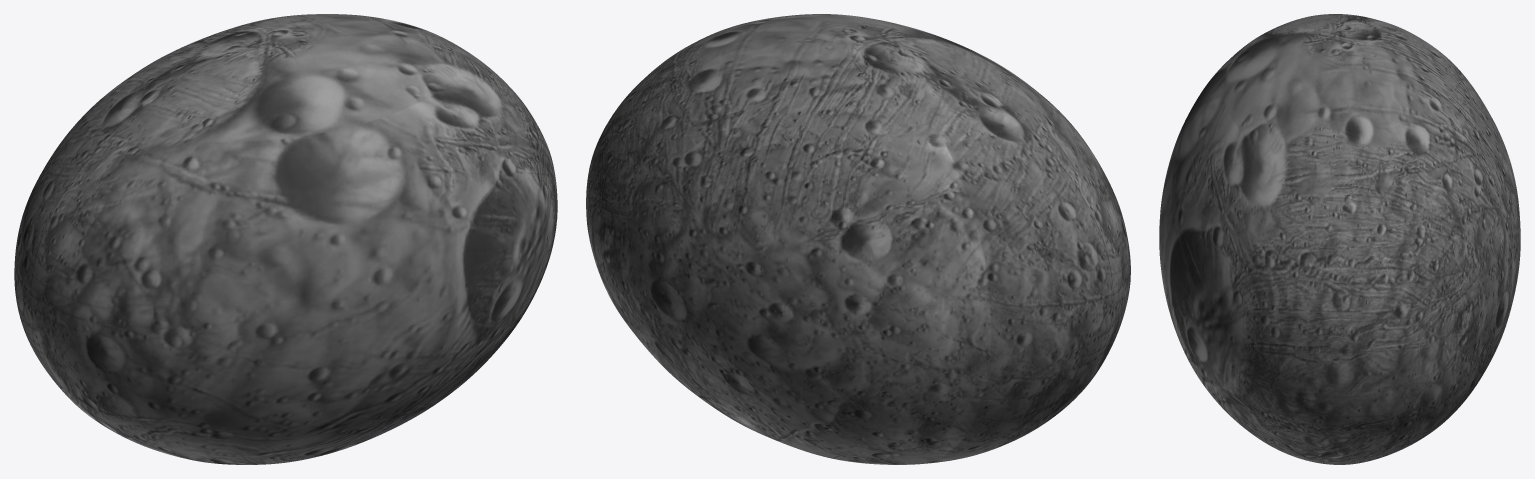
Rendered from phobos.glb.
3 renders of one model, left to right at view 1: azimuth 30°, elevation 25°; view 2: azimuth 150°, elevation 25°; view 3: azimuth 270°, elevation 25°, orthographic. The views are drawn at different scales.
Visible parts, largest first — view 1: Phobos_Asset; view 2: Phobos_Asset; view 3: Phobos_Asset.
Boxes of the visible parts, box(x1,y1,x2,y2) form: Phobos_Asset: box(14, 14, 557, 464); Phobos_Asset: box(586, 14, 1130, 464); Phobos_Asset: box(1159, 14, 1520, 464).
Size of the model in its own units: 0.3135 by 0.24 by 0.2038.
Materials: 1 (1 with a texture image).
